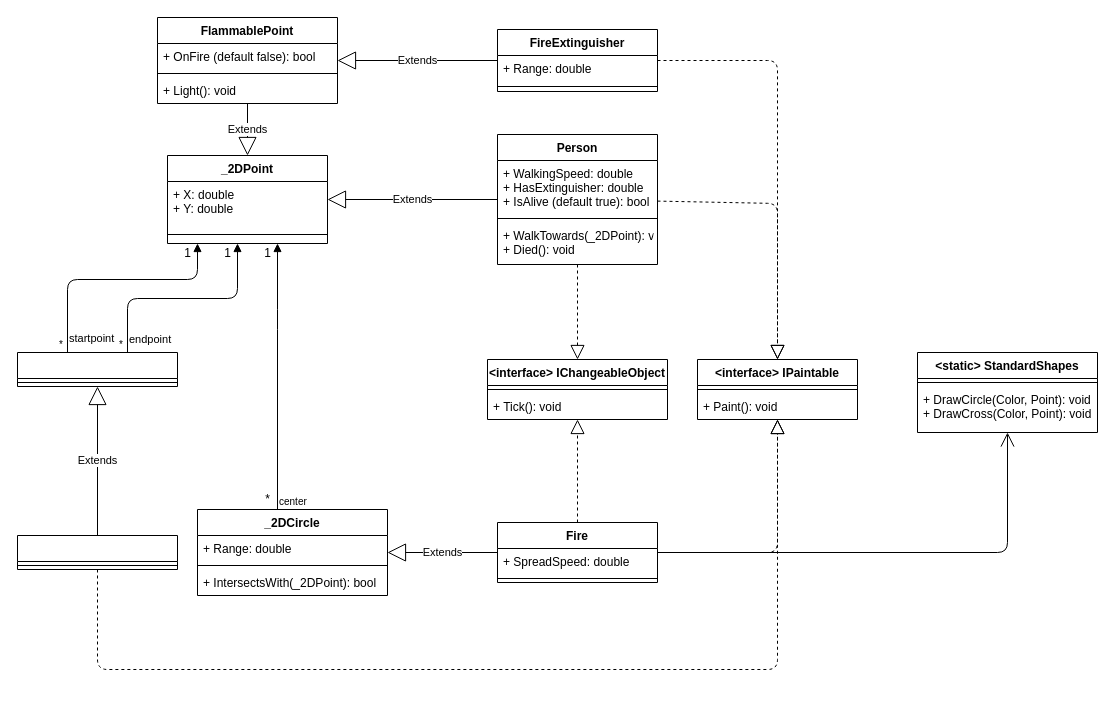
Image size: 1115x701. Some labels were removed from this diagram. Here are the shapes that lost their labels. From the top down, the centre of each, then its label:
At point 97,369: "_2DLine".
At point 97,552: "Wall".
